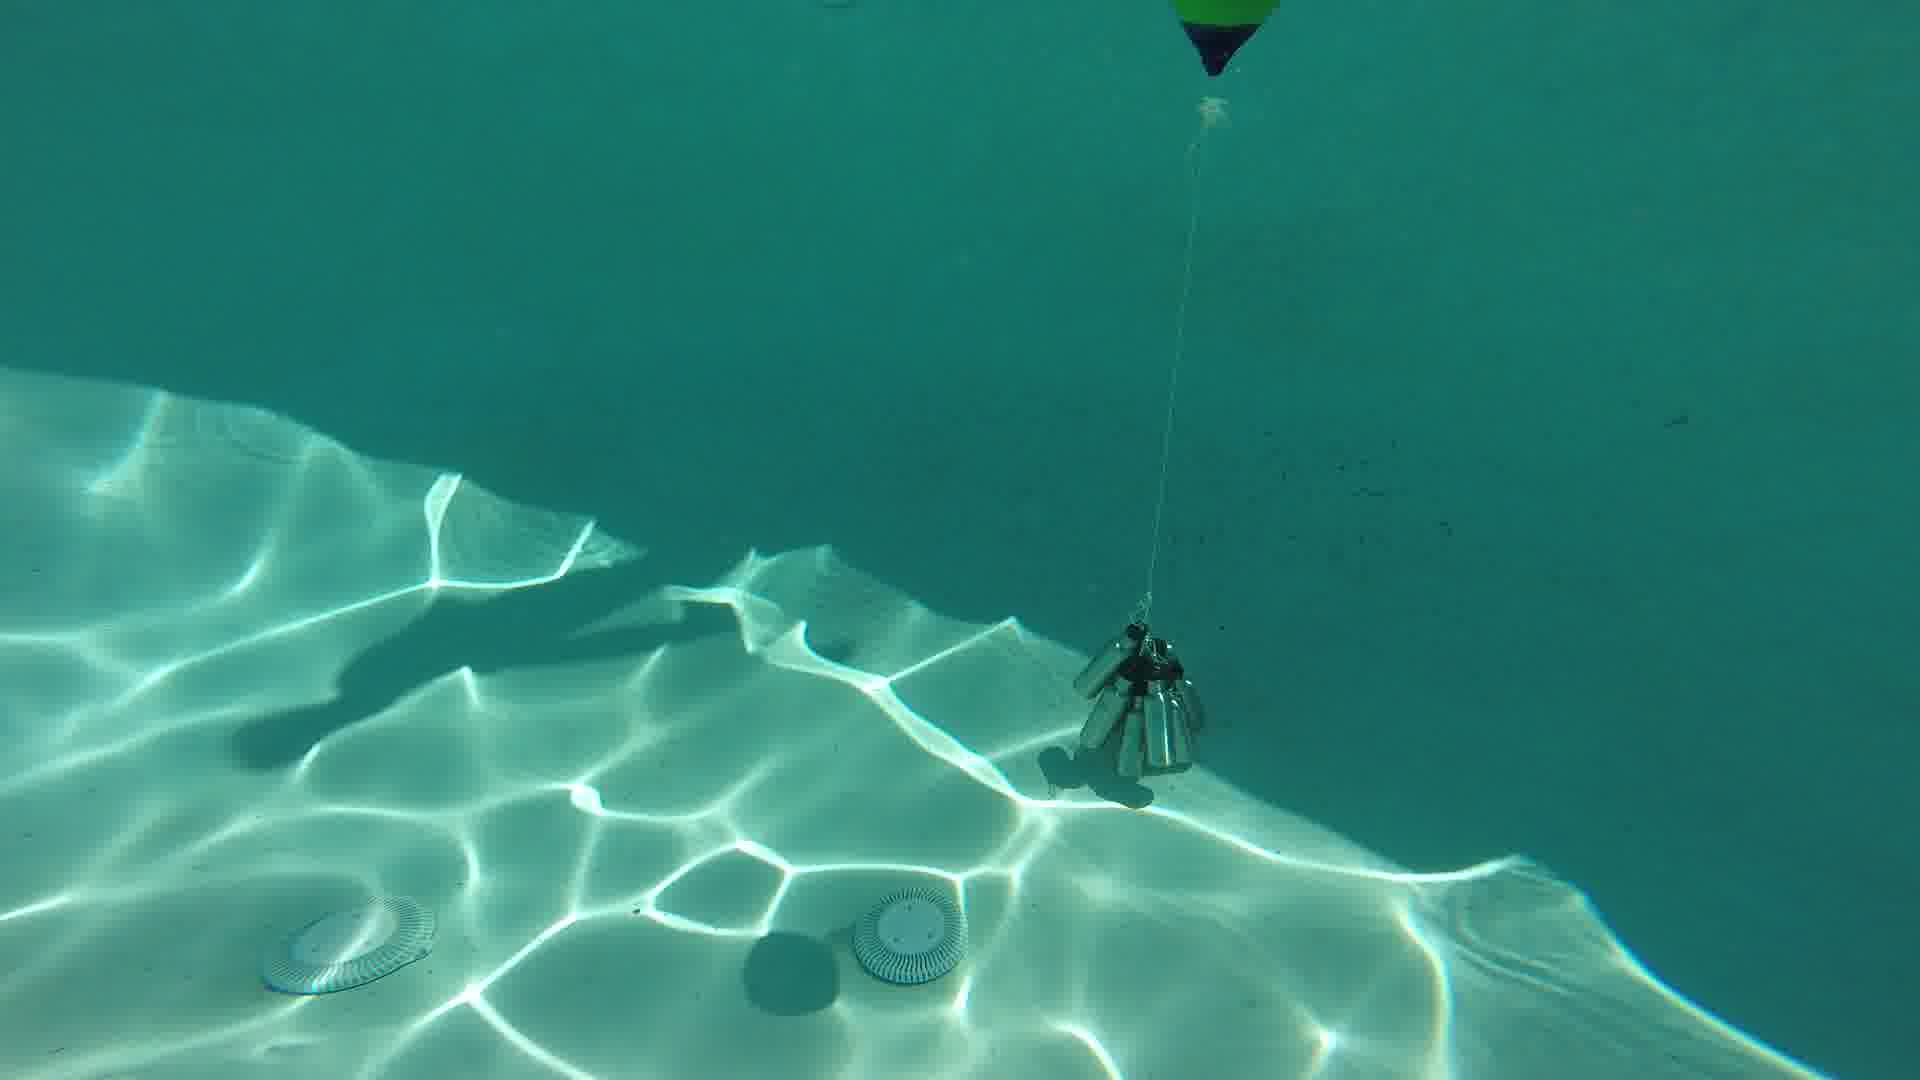yellow_buoy: (1168, 1, 1280, 131)
